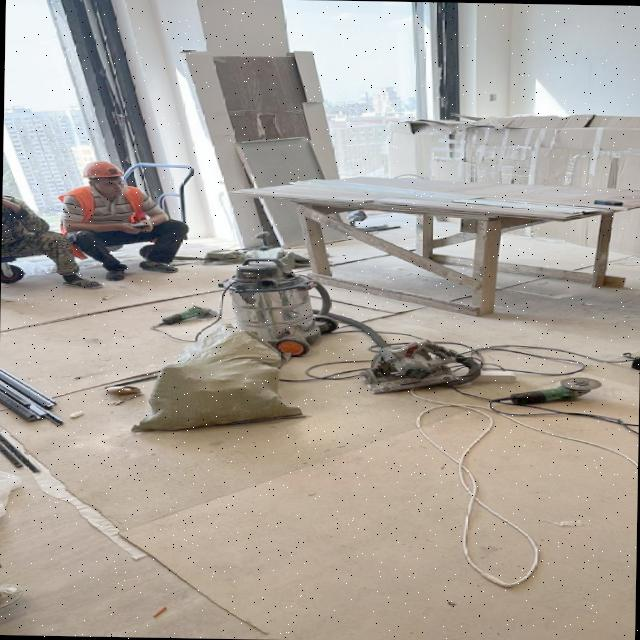Helmet: (81, 160, 129, 198)
